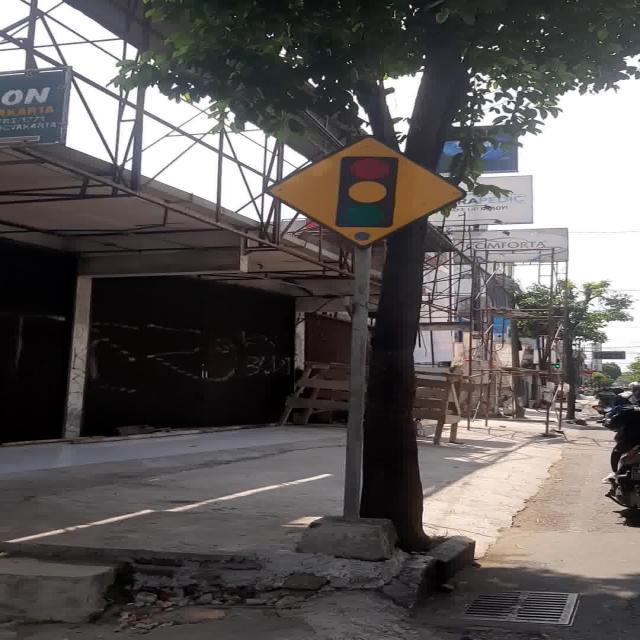Lampu Lalu Lintas: (265, 135, 466, 250)
